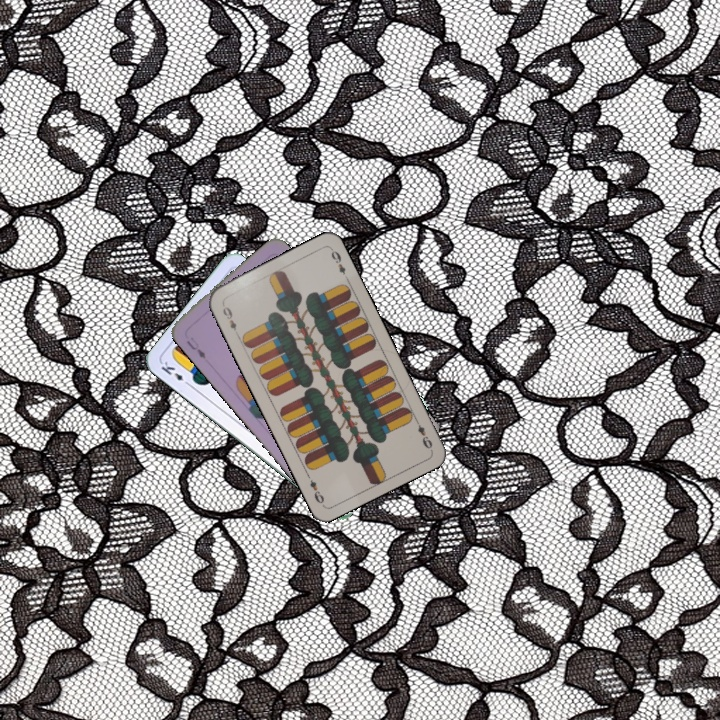E9: (411, 414, 435, 451), (218, 300, 239, 334)
EK: (157, 357, 193, 388)
EU: (183, 333, 208, 361)
